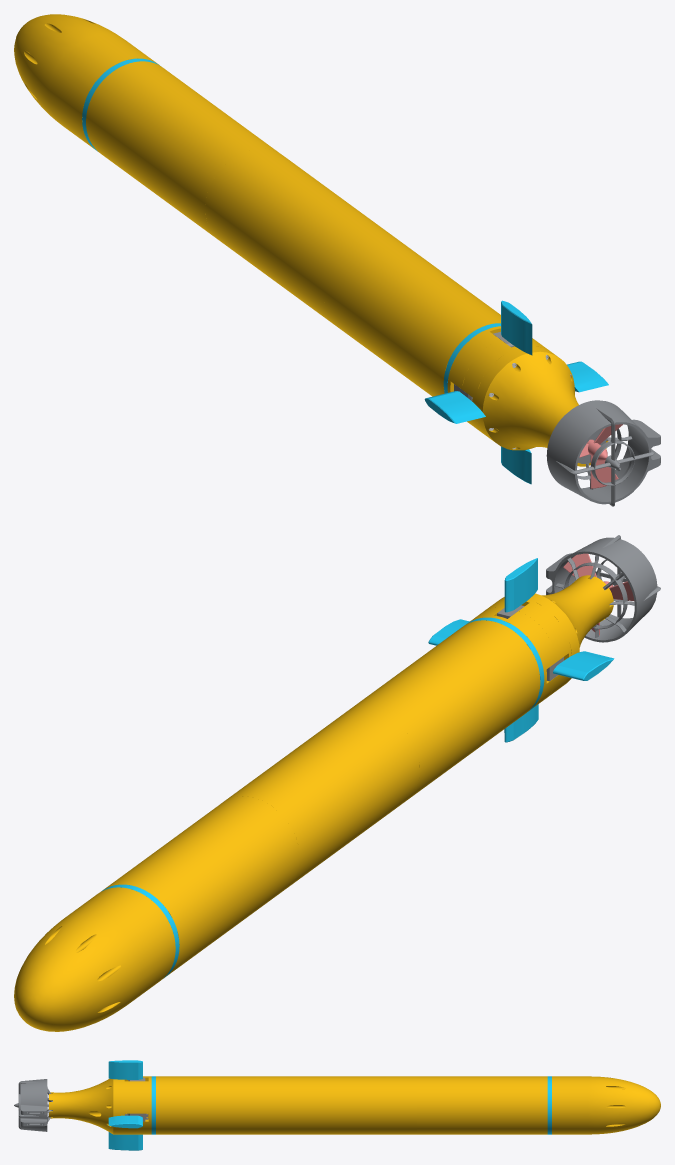
The model's file is assembly.glb.
3 renders of one model, top to bottom at view 1: azimuth 30°, elevation 25°; view 2: azimuth 150°, elevation 25°; view 3: azimuth 270°, elevation 25°, orthographic. The views are drawn at different scales.
Visible parts, largest first — view 1: Outer Shell End; view 2: Outer Shell End; view 3: Outer Shell End.
Part boxes in pixels (x1,y1,x2,y2): Outer Shell End: (14, 14, 660, 506); Outer Shell End: (14, 535, 660, 1031); Outer Shell End: (14, 1060, 660, 1150).
Bounding box in the file's own units: 0.2276 × 0.2276 × 1.51.
Materials: 2 (2 with a texture image).
